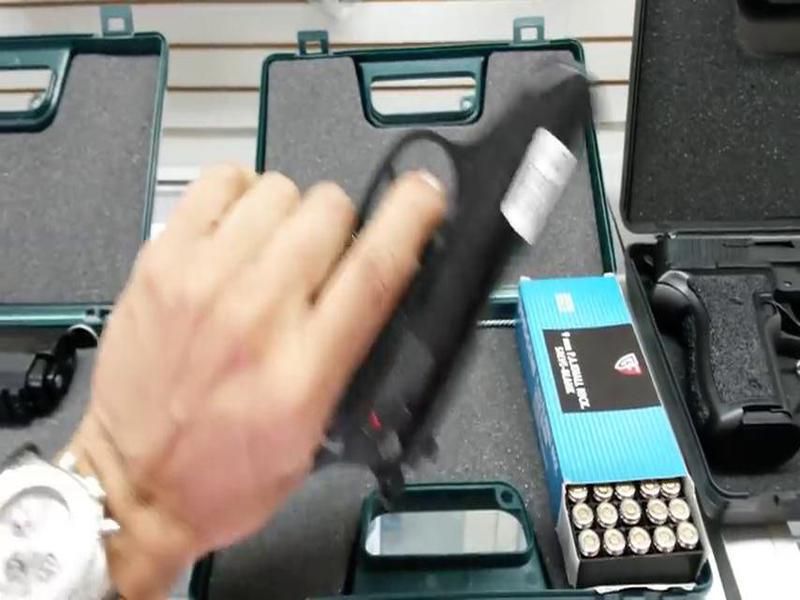Pistola: (286, 41, 607, 486)
